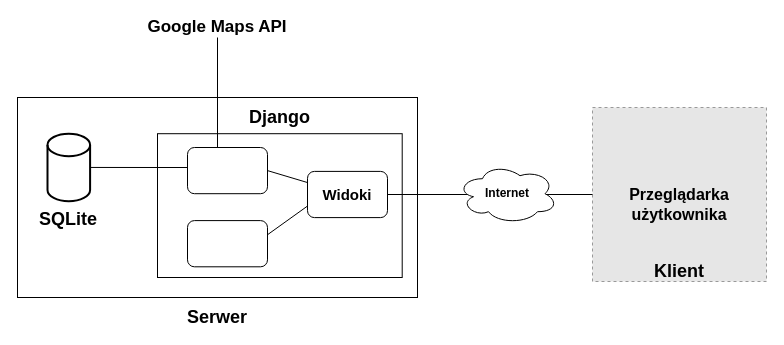
Some shapes in this 784 by 345 pixel diagram are drawn without their labels. Grey dashed boxes stand in for pictures. Each missing label, with the box of its shape:
Modele: (186, 146, 268, 194)
Szablony: (186, 220, 268, 267)
